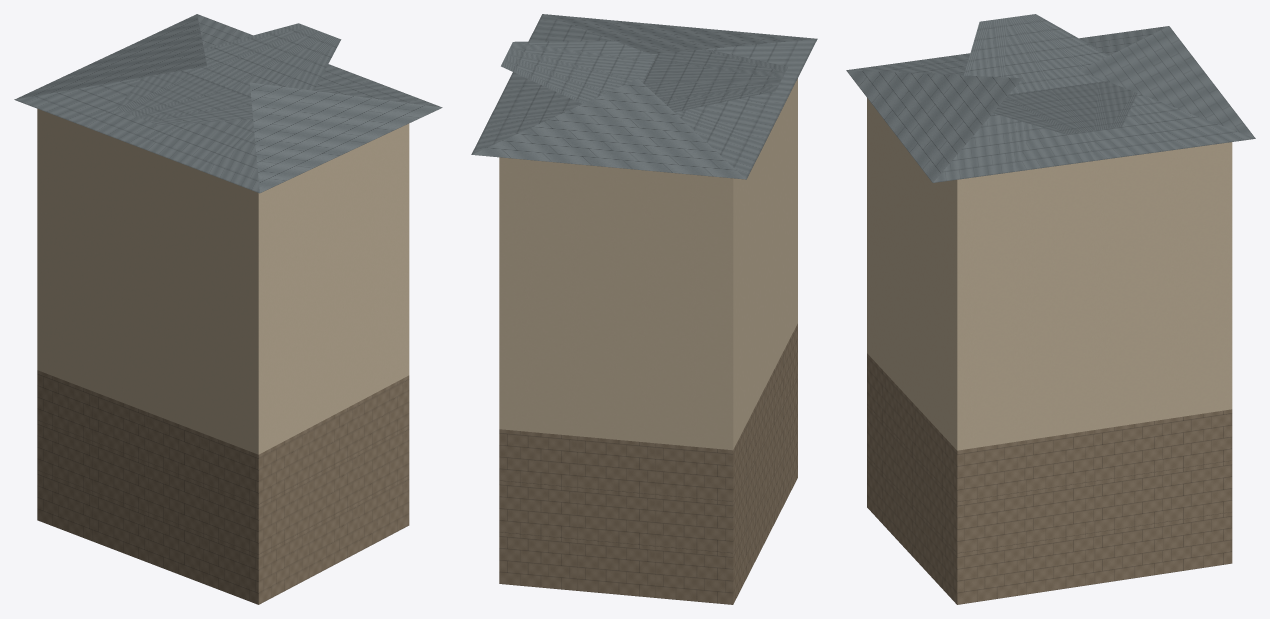
File: bld_c30_-25_540.gltf
3 renders of one model, left to right at view 1: azimuth 30°, elevation 25°; view 2: azimuth 150°, elevation 25°; view 3: azimuth 270°, elevation 25°, orthographic. The views are drawn at different scales.
Parts seen in each view (by area): view 1: bld_c30_-25_540; view 2: bld_c30_-25_540; view 3: bld_c30_-25_540.
Boxes of the visible parts, x1,y1,x2,y2 form: bld_c30_-25_540: (14,14,442,604); bld_c30_-25_540: (471,14,817,604); bld_c30_-25_540: (846,14,1255,604).
Size of the model in its own units: 11.14 by 15.3 by 12.28.
3 materials, 3 textured.
